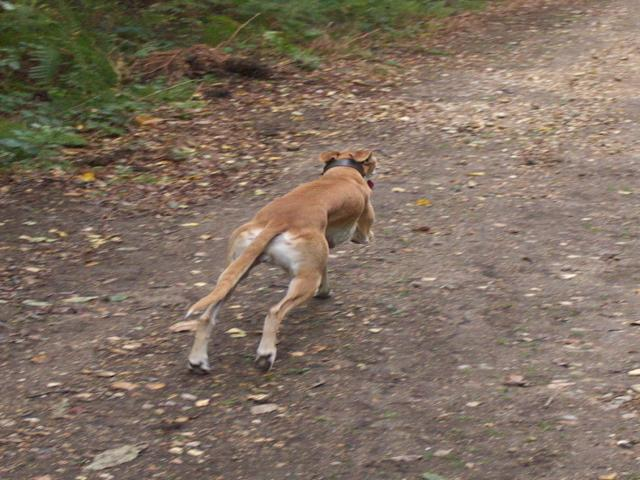Dog: (180, 149, 382, 375)
